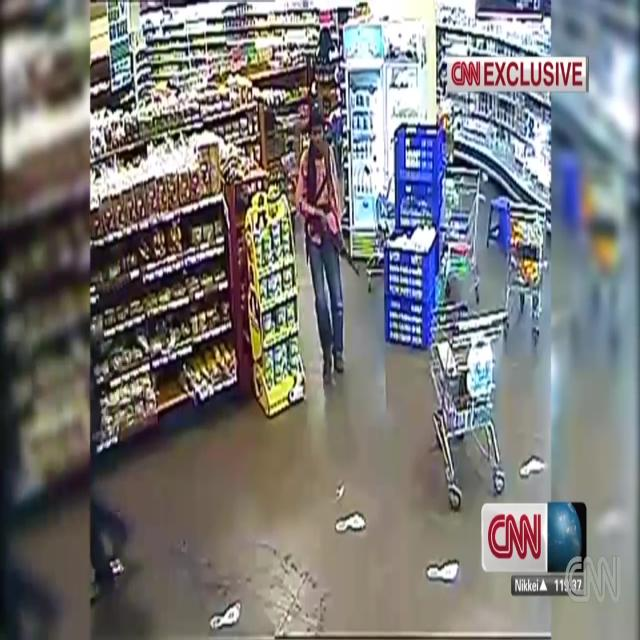Weapon: (285, 192, 367, 300)
